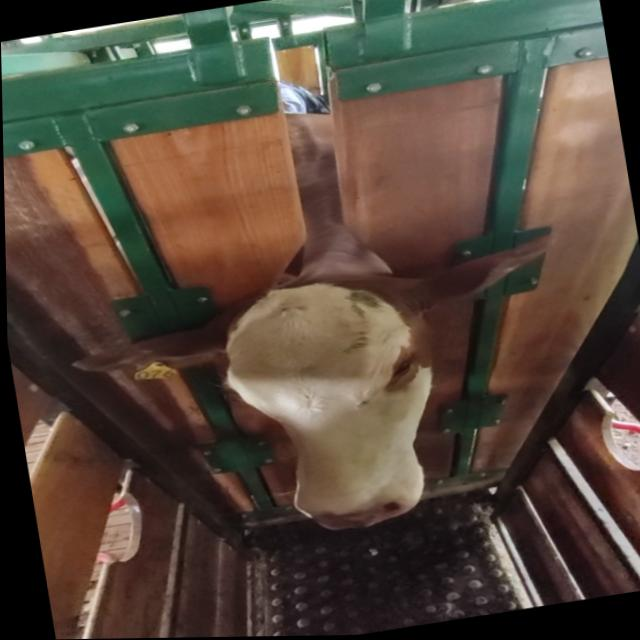cowFace: (207, 264, 454, 544)
